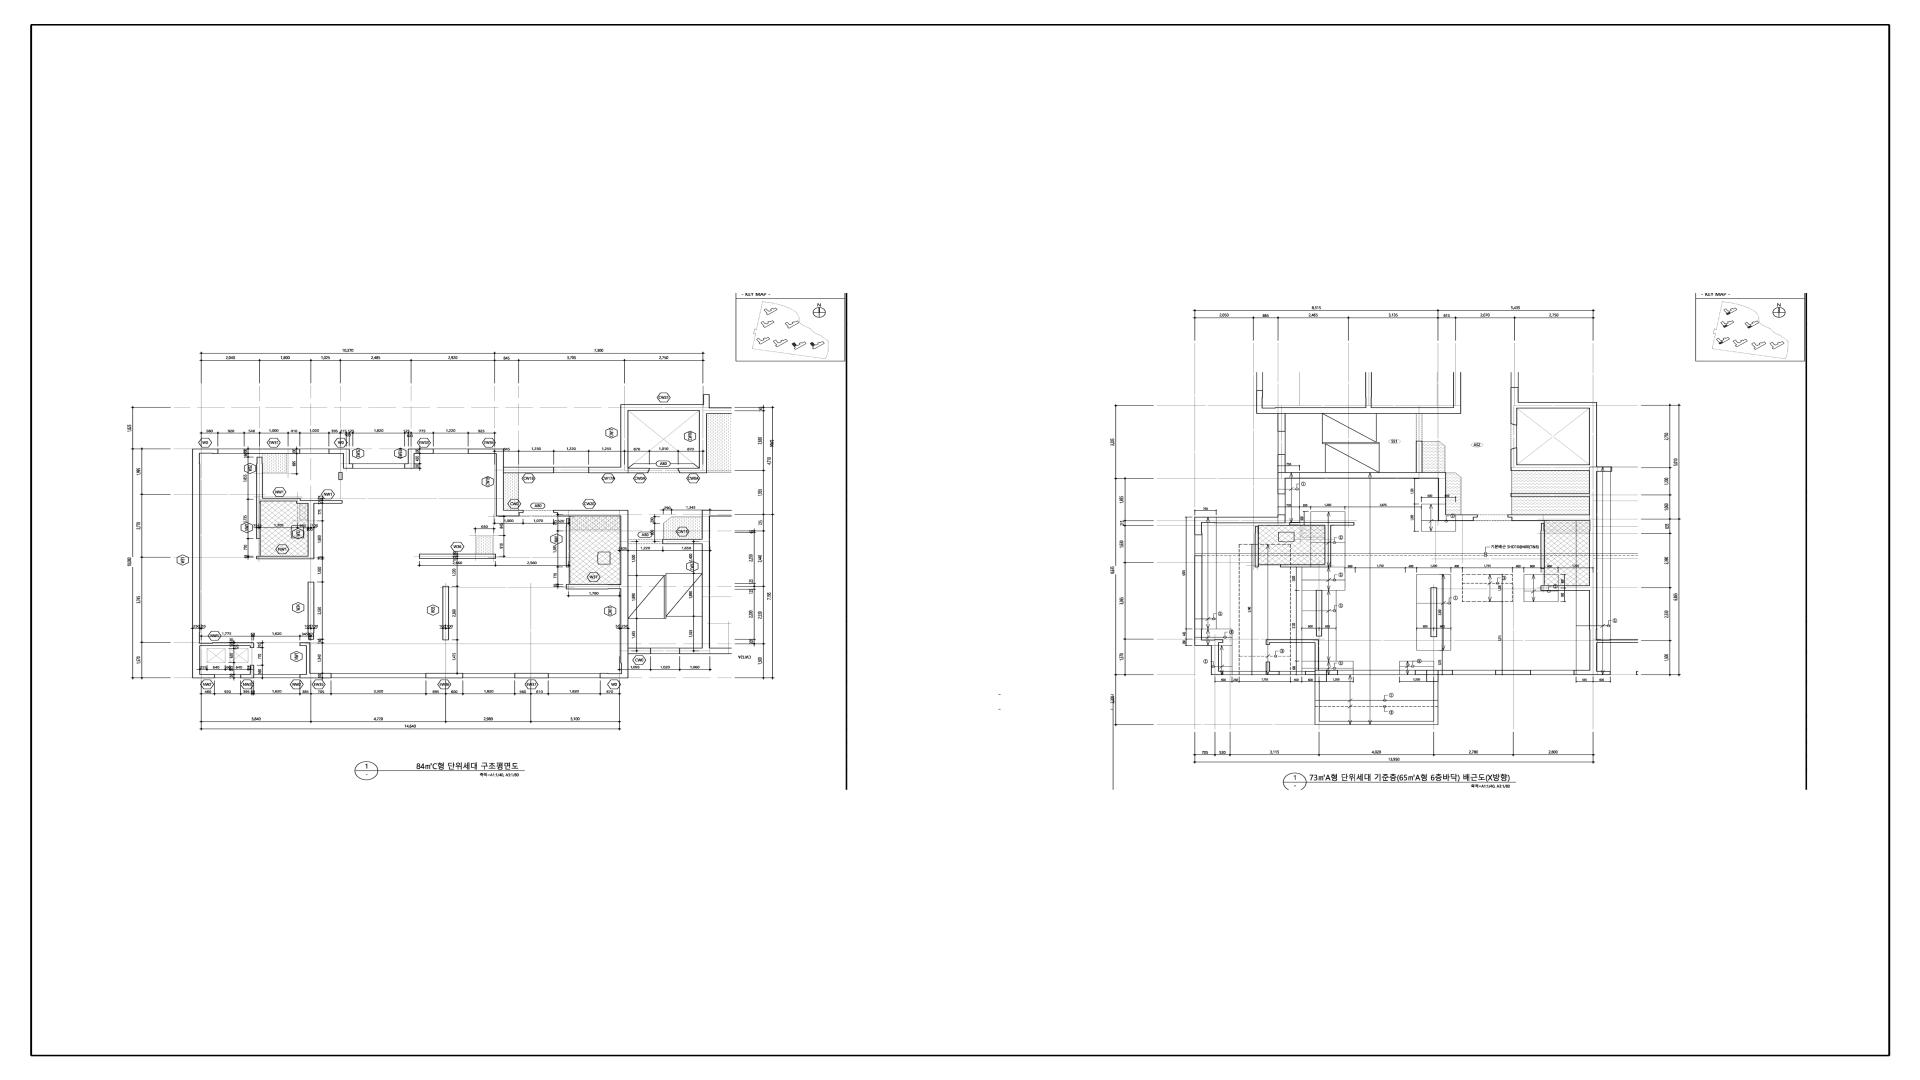wall: (192, 449, 200, 674), (1589, 472, 1598, 670), (1256, 407, 1461, 414), (620, 516, 628, 678), (702, 510, 710, 648), (1286, 472, 1438, 479), (629, 404, 732, 414), (1194, 556, 1202, 640), (256, 457, 263, 539), (1194, 517, 1286, 523), (620, 404, 628, 467), (1508, 515, 1590, 521), (1517, 465, 1597, 471), (1519, 402, 1597, 408), (1589, 408, 1597, 465), (553, 510, 628, 516), (496, 454, 504, 510), (699, 414, 707, 468), (419, 554, 496, 559), (588, 467, 650, 473), (308, 582, 314, 640), (1438, 472, 1446, 515), (308, 504, 314, 559), (443, 586, 449, 640), (1511, 493, 1589, 497), (504, 467, 554, 473), (1431, 587, 1437, 637), (1316, 590, 1322, 637), (244, 449, 300, 454), (566, 584, 620, 589), (1289, 522, 1354, 526), (1438, 515, 1478, 521), (1541, 586, 1589, 591), (1325, 526, 1331, 564), (1416, 441, 1423, 472), (662, 539, 702, 544), (1211, 646, 1219, 671), (566, 518, 570, 567), (679, 648, 710, 654), (426, 673, 463, 678), (1511, 402, 1519, 425), (1541, 523, 1545, 569), (468, 449, 504, 454), (1495, 670, 1531, 675), (1278, 472, 1286, 494), (515, 673, 549, 678), (496, 510, 524, 516), (301, 500, 343, 504), (1195, 640, 1223, 646), (1255, 526, 1259, 567), (300, 673, 332, 678), (256, 556, 308, 559), (1280, 564, 1331, 567), (1278, 454, 1286, 473), (200, 643, 250, 646), (1270, 640, 1319, 643), (678, 468, 707, 473), (1278, 414, 1286, 432), (1511, 448, 1517, 471), (629, 648, 651, 654), (710, 510, 732, 516), (1574, 670, 1597, 675), (1590, 467, 1612, 472), (306, 646, 310, 673), (1315, 643, 1319, 670), (329, 449, 350, 454), (600, 673, 621, 678), (263, 498, 296, 501), (408, 449, 415, 463), (415, 449, 434, 454), (192, 674, 215, 678), (200, 449, 218, 454), (1211, 671, 1232, 675), (1195, 523, 1202, 535), (703, 394, 710, 404), (1439, 670, 1453, 675), (404, 463, 415, 469), (1426, 670, 1439, 675), (343, 454, 350, 463), (1315, 670, 1327, 675), (240, 674, 254, 678), (1266, 671, 1280, 675), (1415, 670, 1426, 675), (1327, 670, 1338, 675), (343, 464, 353, 469), (1305, 671, 1315, 675), (250, 665, 254, 674), (1266, 662, 1270, 671), (300, 643, 310, 646), (296, 498, 301, 504), (250, 643, 254, 648), (1266, 640, 1270, 645), (1278, 515, 1286, 517)
